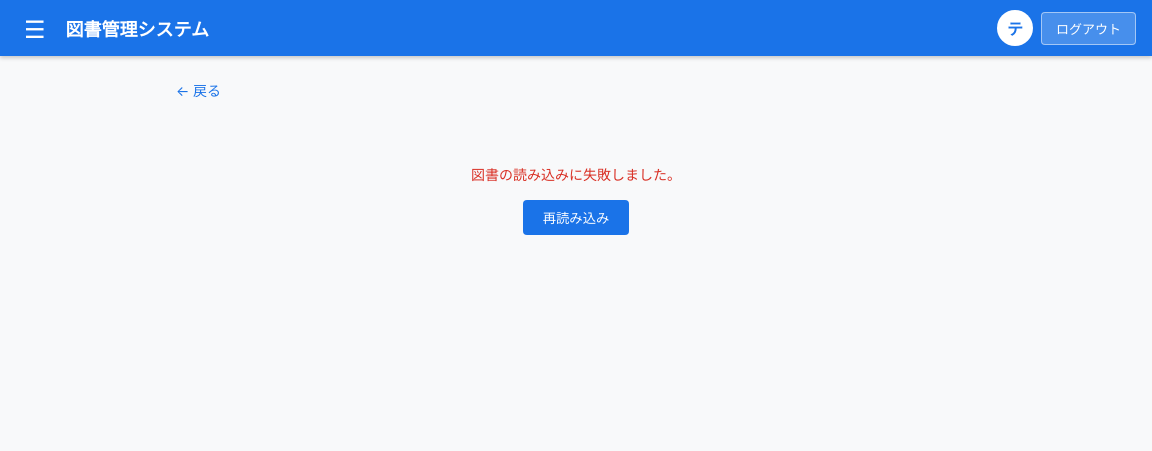
it: BookDetailPage › reloads book data when reload button is clicked
Click the button "再読み込み" at (576, 218), box x1=523 y1=200 x2=629 y2=235
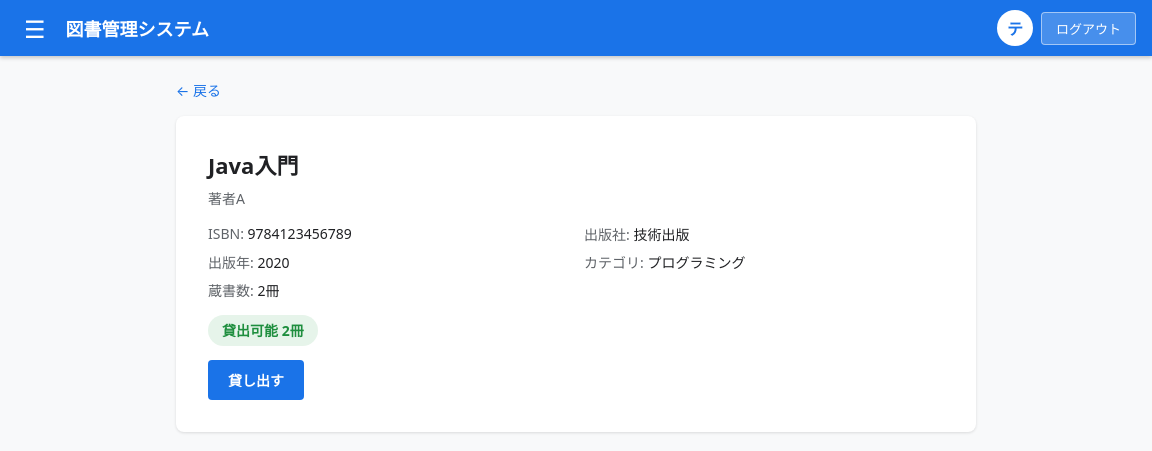
expect the heading "Java入門" is shown: met, box x1=208 y1=150 x2=298 y2=180
